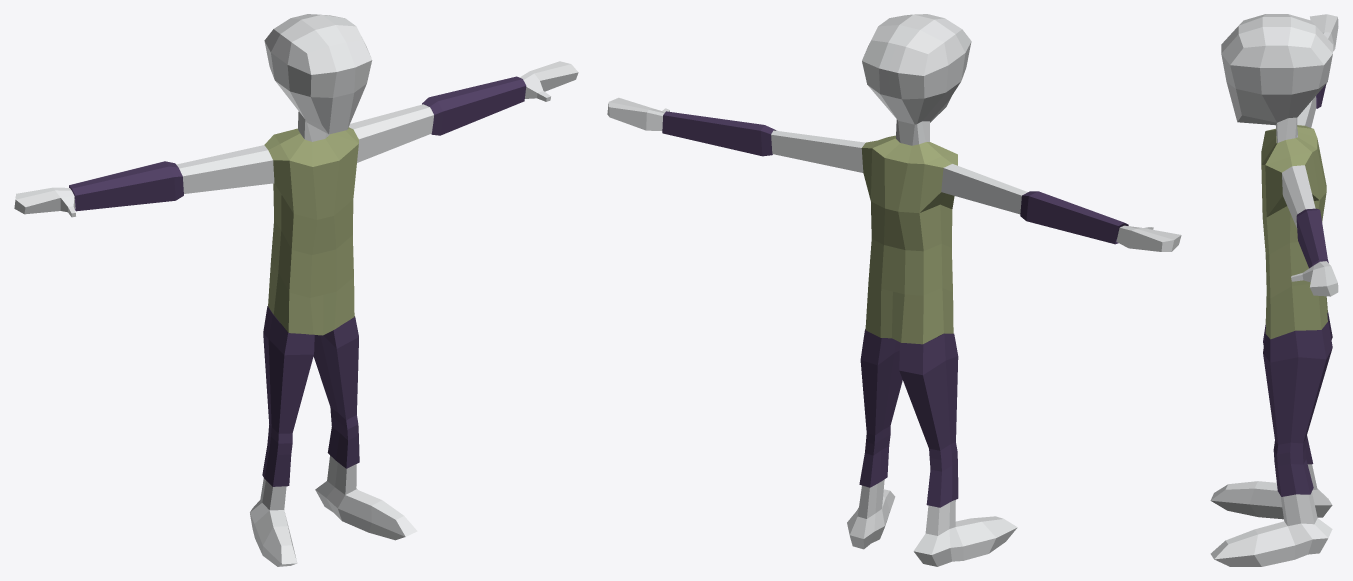
Rendered from EnemyLowPoly.fbx.
3 views of the same model, side by side, from view 1: azimuth 30°, elevation 25°; view 2: azimuth 150°, elevation 25°; view 3: azimuth 270°, elevation 25° (orthographic).
Parts seen in each view (by area): view 1: Body; view 2: Body; view 3: Body.
Part boxes in pixels (left/top/right/bottom): Body: left=14, top=14, right=578, bottom=566; Body: left=607, top=14, right=1181, bottom=566; Body: left=1210, top=14, right=1338, bottom=566.
Bounding box in the file's own units: 234 × 206 × 46.42.
